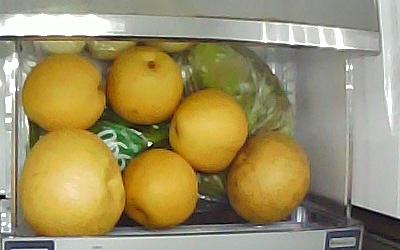pear: (19, 130, 125, 237), (223, 130, 311, 224), (167, 88, 249, 174), (23, 54, 106, 134), (120, 148, 199, 230), (105, 46, 184, 124)
